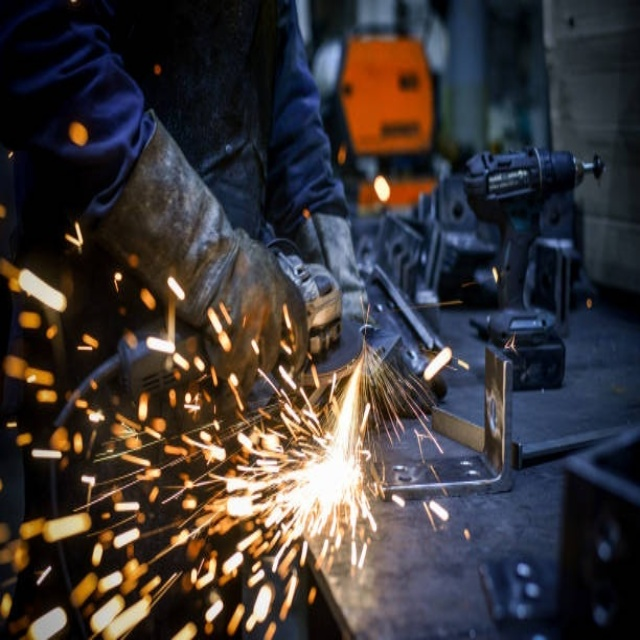Guantes: (84, 102, 308, 406)
